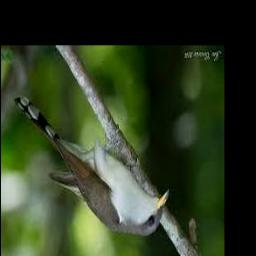Cuckoo: (15, 96, 170, 236)
